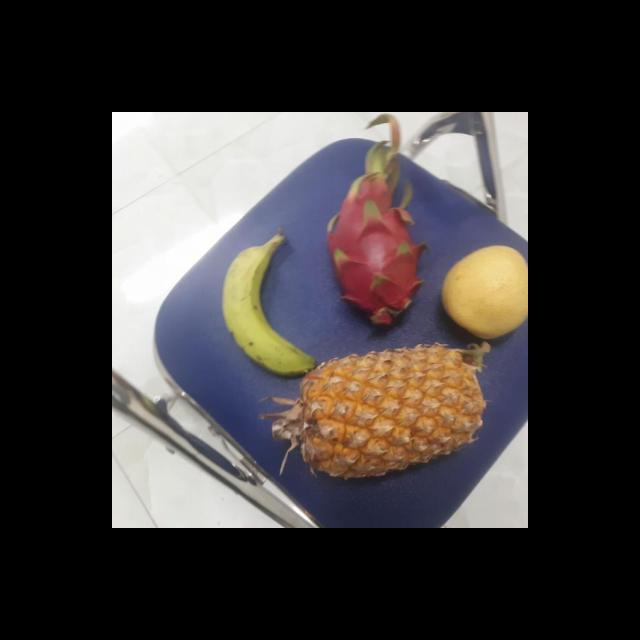banana: (217, 229, 313, 374)
guava: (437, 245, 528, 339)
pineapple: (276, 349, 478, 478)
pitaya: (326, 216, 430, 322)
